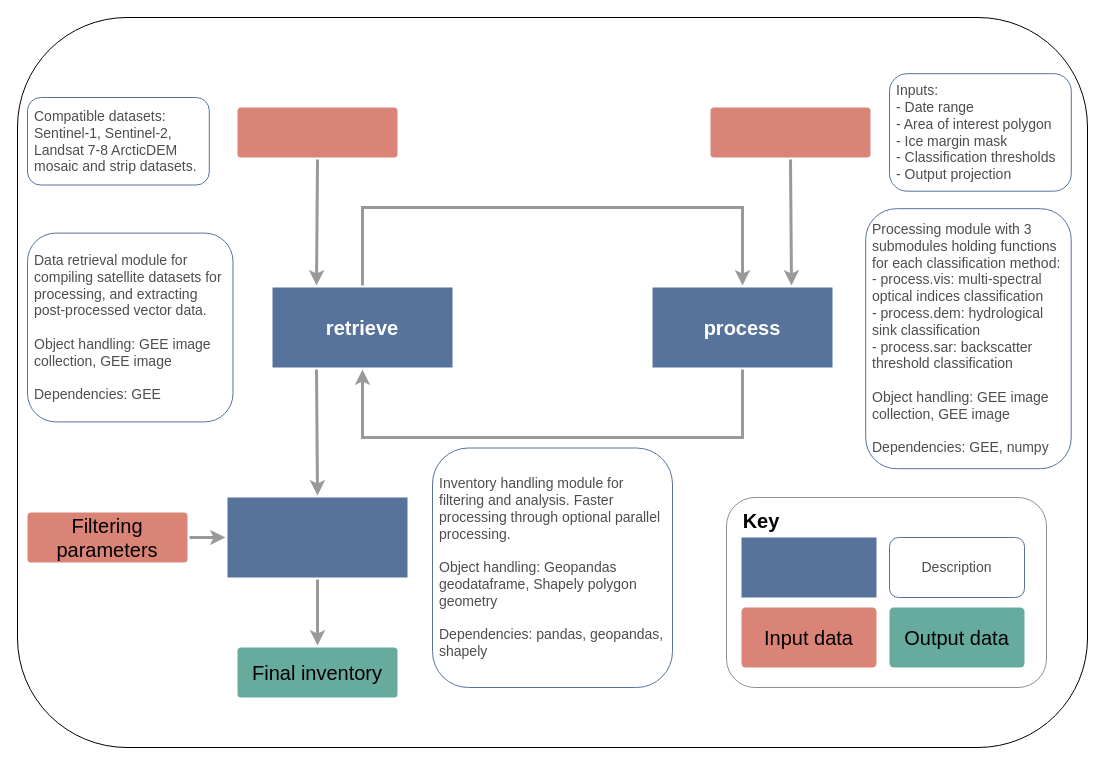
The diagram is 1105 pixels wide and 765 high, and some of its shapes have lost their labels. The box of each missing label's shape, as (x1, y1, x2, y2) in pixels:
Datasets: (237, 107, 397, 157)
IML: (227, 497, 407, 577)
Input parameters: (710, 107, 870, 157)
Module: (741, 537, 876, 597)
